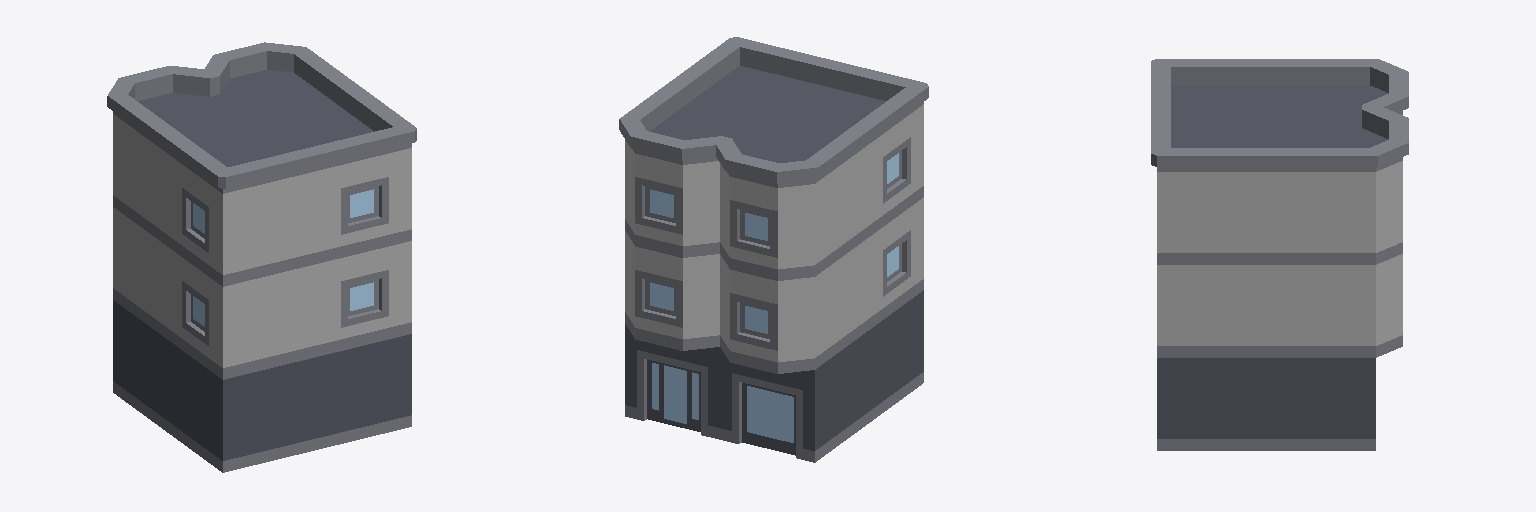
Rendered from city_shop_a.obj.
The picture shows the model from 3 angles: view 1: azimuth 30°, elevation 25°; view 2: azimuth 150°, elevation 25°; view 3: azimuth 270°, elevation 25°; orthographic projection.
Parts seen in each view (by area): view 1: mergedBlocks; view 2: mergedBlocks; view 3: mergedBlocks.
Boxes of the visible parts, <box> form: mergedBlocks: <box>107,42,416,472</box>; mergedBlocks: <box>619,37,928,462</box>; mergedBlocks: <box>1151,59,1408,450</box>.
Bounding box in the file's own units: 0.5376 × 0.768 × 0.6016.